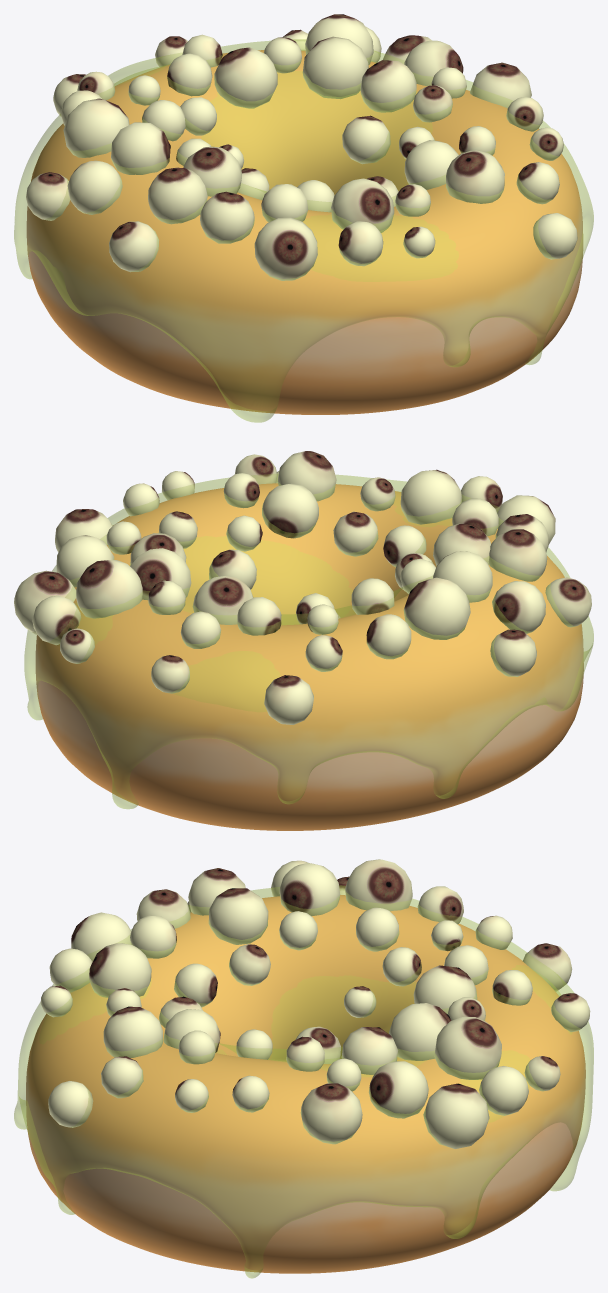
The model's file is Donut.glb.
The picture shows the model from 3 angles, top to bottom: view 1: azimuth 30°, elevation 25°; view 2: azimuth 150°, elevation 25°; view 3: azimuth 270°, elevation 25°; orthographic projection.
Parts seen in each view (by area): view 1: Slime, Donut; view 2: Slime, Donut; view 3: Slime, Donut.
Boxes of the visible parts, x1,y1,x2,y2 form: Slime: (14, 14, 593, 422); Donut: (26, 50, 583, 414); Slime: (14, 451, 593, 808); Donut: (35, 483, 583, 830); Slime: (14, 859, 593, 1278); Donut: (26, 895, 585, 1273).
Bounding box in the file's own units: 0.1259 × 0.0589 × 0.1263.
Materials: 3 (2 with a texture image).
